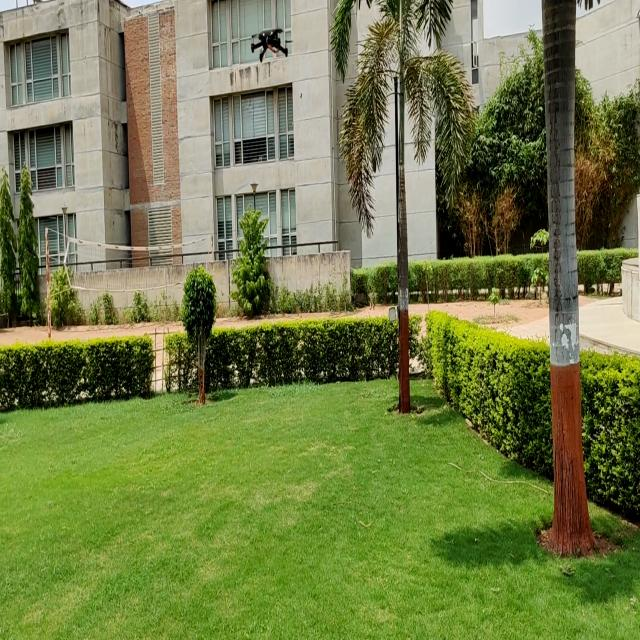drone: (242, 25, 298, 67)
